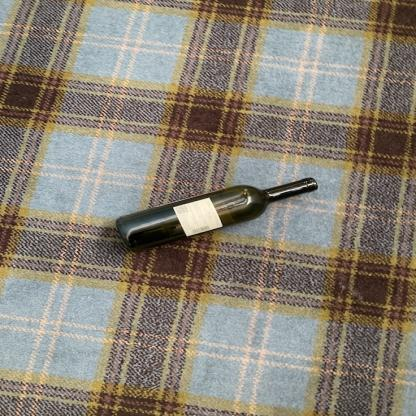trash: (115, 175, 321, 251)
